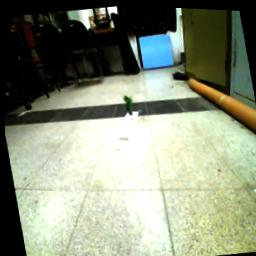herb: (122, 92, 136, 117)
